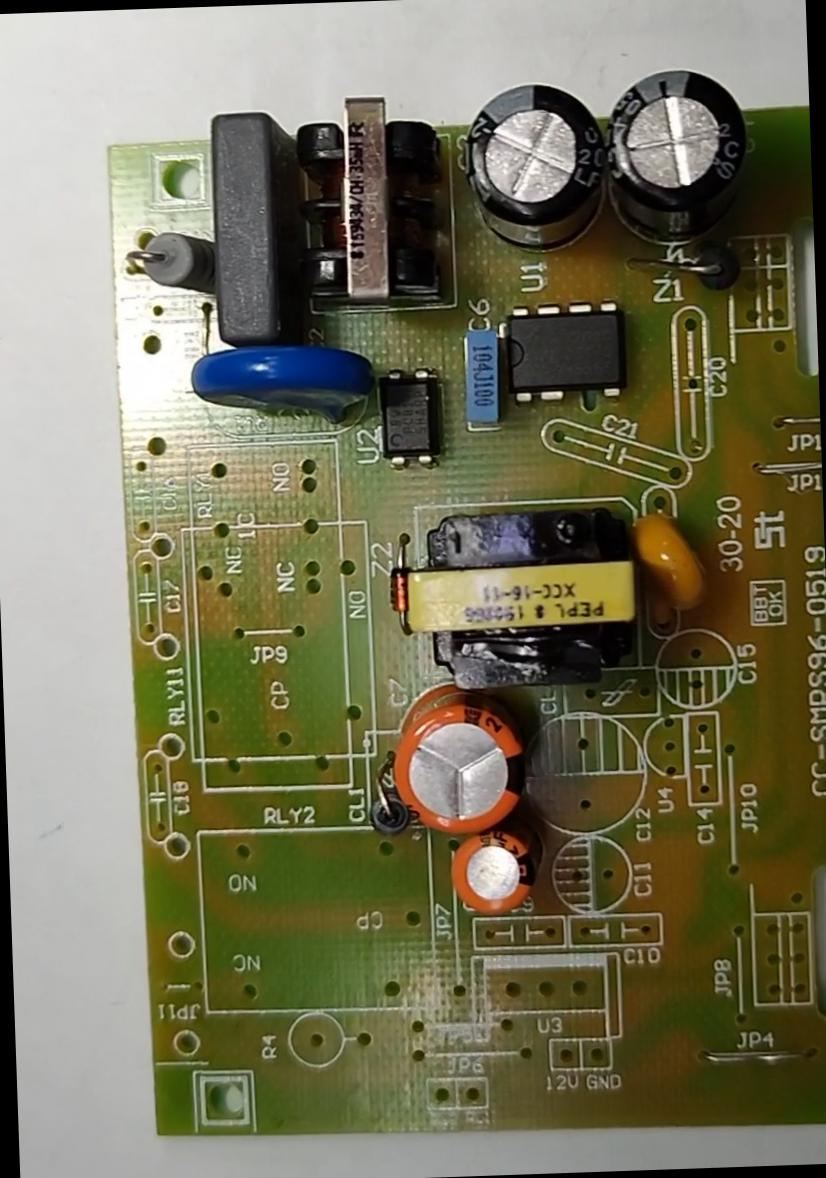Cap1: (382, 682, 540, 838)
Cap2: (442, 823, 546, 920)
Cap3: (460, 85, 614, 259)
Cap4: (597, 63, 758, 252)
MOSFET: (493, 300, 640, 413)
Mov: (181, 331, 378, 427)
Resistor: (123, 220, 222, 304)
Transformer: (381, 496, 659, 693), (288, 90, 457, 320)
